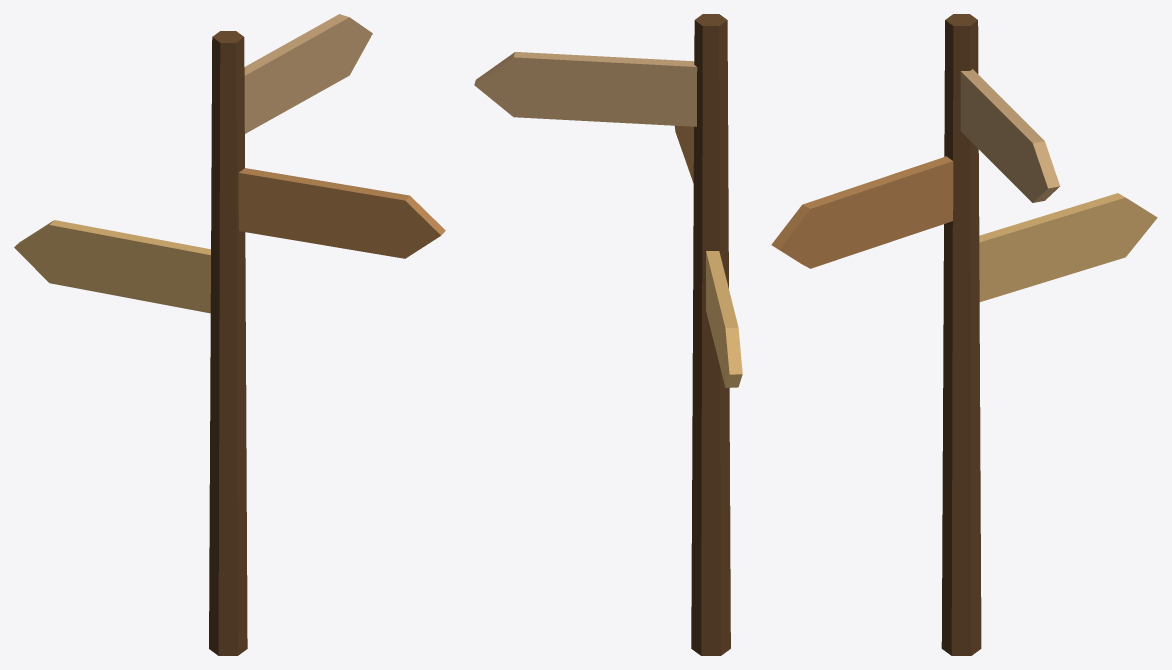
File: Prop_Signpost.fbx
3 renders of one model, left to right at view 1: azimuth 30°, elevation 25°; view 2: azimuth 150°, elevation 25°; view 3: azimuth 270°, elevation 25°, orthographic. The views are drawn at different scales.
Visible parts, largest first — view 1: Prop_Signpost.001; view 2: Prop_Signpost.001; view 3: Prop_Signpost.001.
Part boxes in pixels (x1=…): Prop_Signpost.001: x1=14, y1=14, x2=445, y2=655; Prop_Signpost.001: x1=474, y1=14, x2=742, y2=655; Prop_Signpost.001: x1=771, y1=14, x2=1157, y2=655.
Size of the model in its own units: 1.11 by 2.1 by 1.17.
